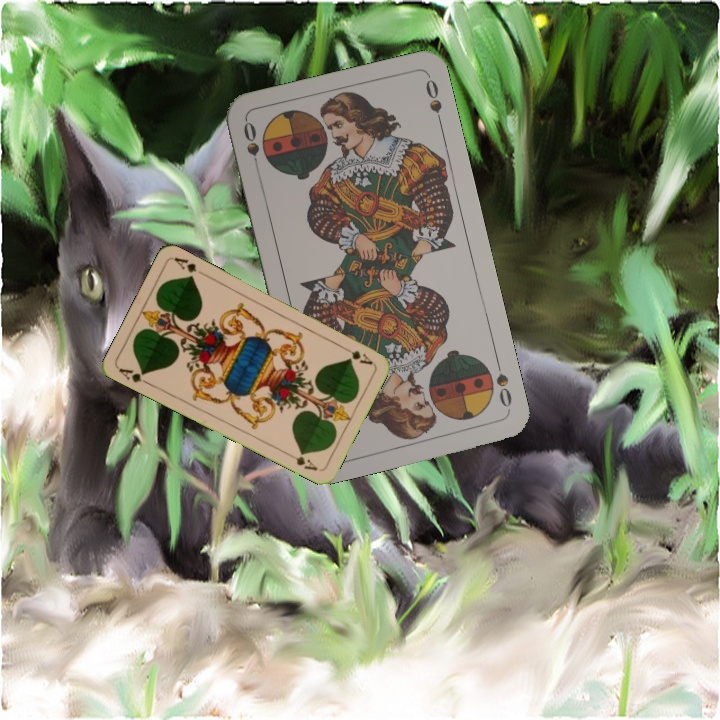GA: (114, 364, 153, 388), (338, 342, 375, 367)
SO: (239, 117, 262, 176), (492, 356, 514, 414)
